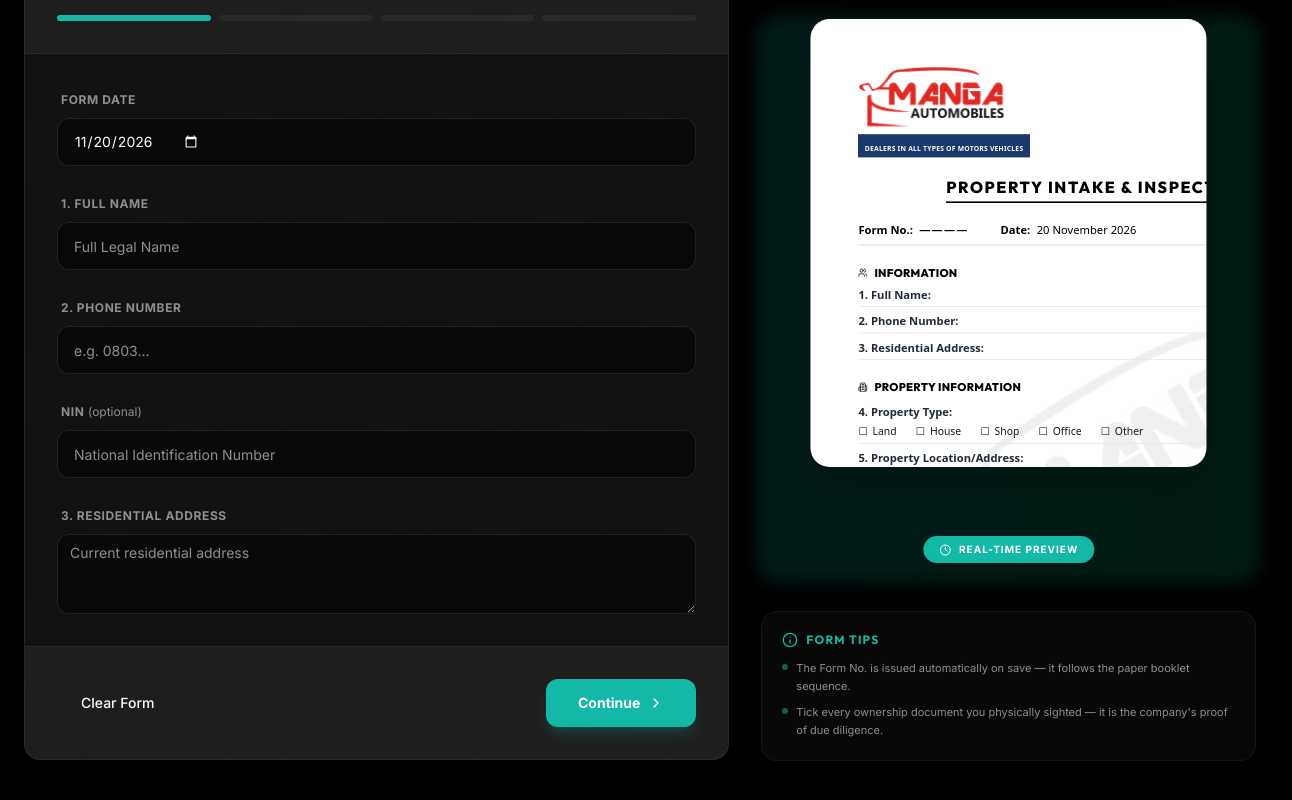
Test: PropertyIntake page › renders every step of the paper form without crashing
This screenshot has width=1292, height=800.
(page scrolled)
Check: the picture with alt text "MANGA AUTOMOBILES" is shown, box [859,67,1006,129]
Check: the text "1. Full Name" is shown, box [57,196,153,211]
Click the button "Continue".
click(621, 703)  # box [546,679,696,727]
(page scrolled)
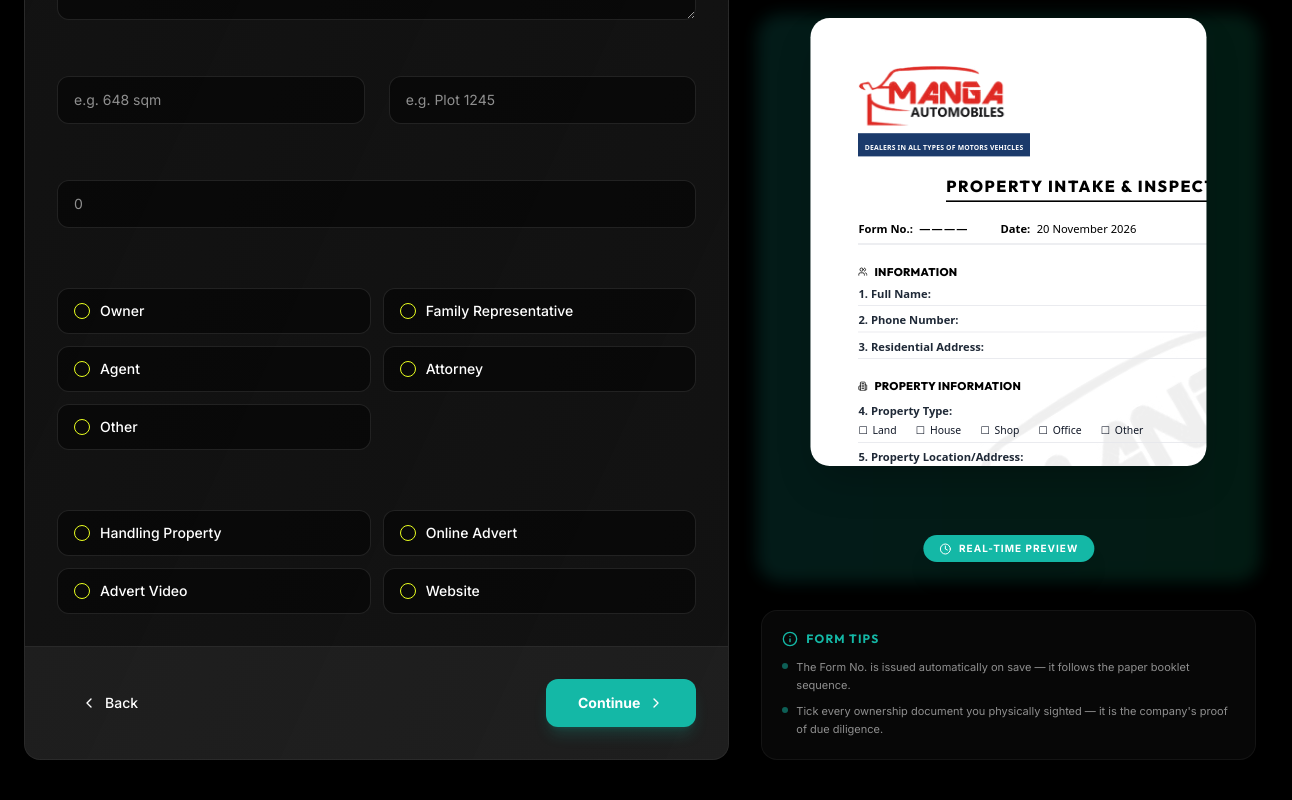
Click the button "Continue".
click(621, 702)  # box [546,678,696,726]
(page scrolled)
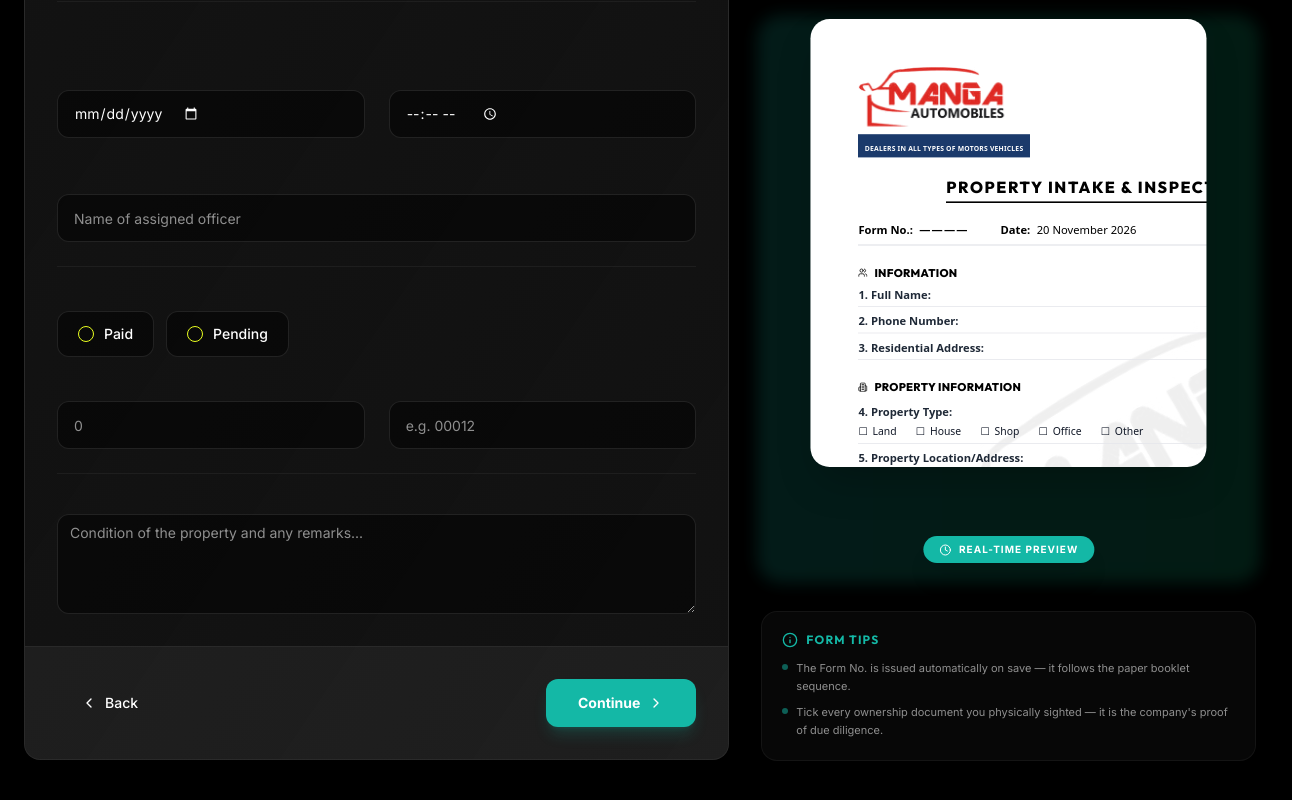
Click the button "Continue".
click(621, 703)  # box [546,679,696,727]
(page scrolled)
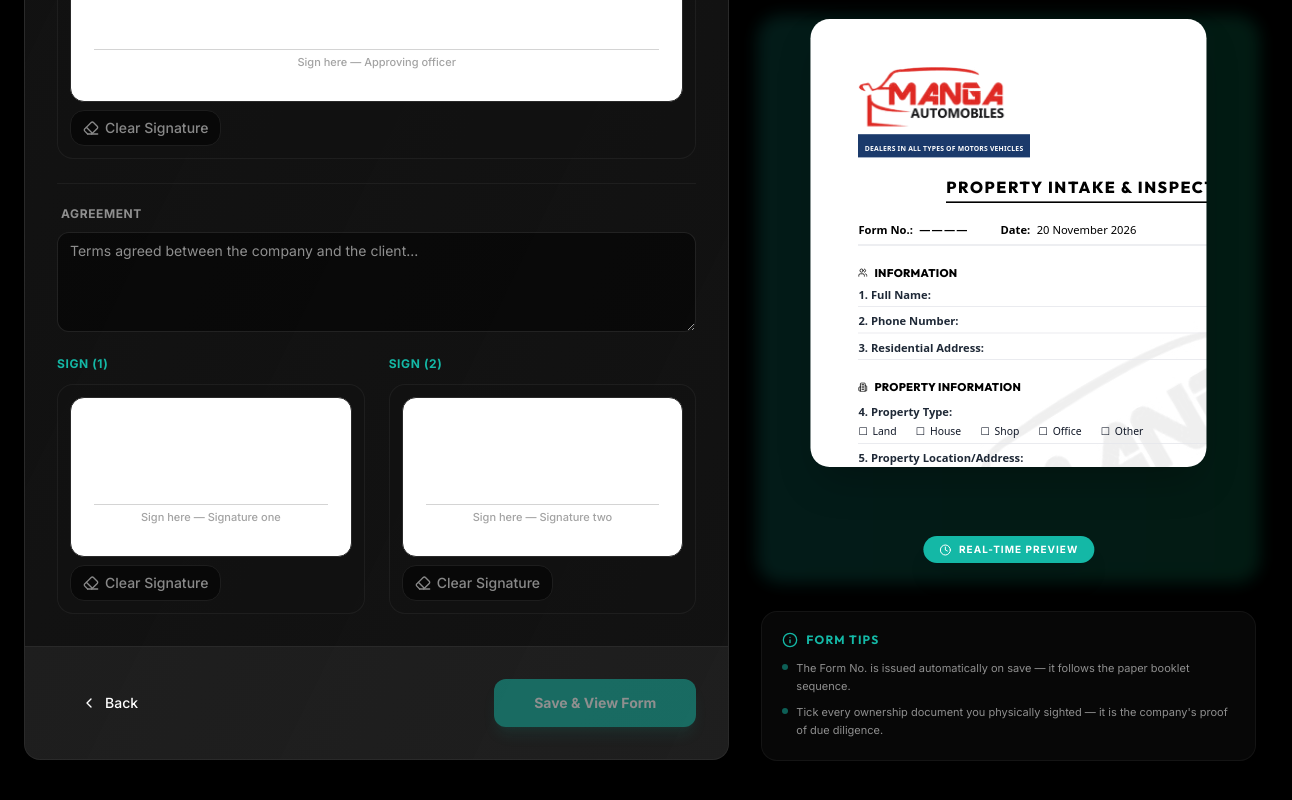
Check: the text "Agreement" is shown, box [57,206,146,221]
Check: the button "Save & View Form" is shown, box [494,679,696,727]
